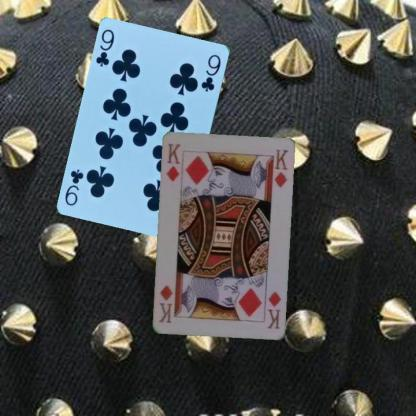9c: (93, 26, 116, 68)
Kd: (164, 141, 183, 183), (264, 289, 283, 330)
